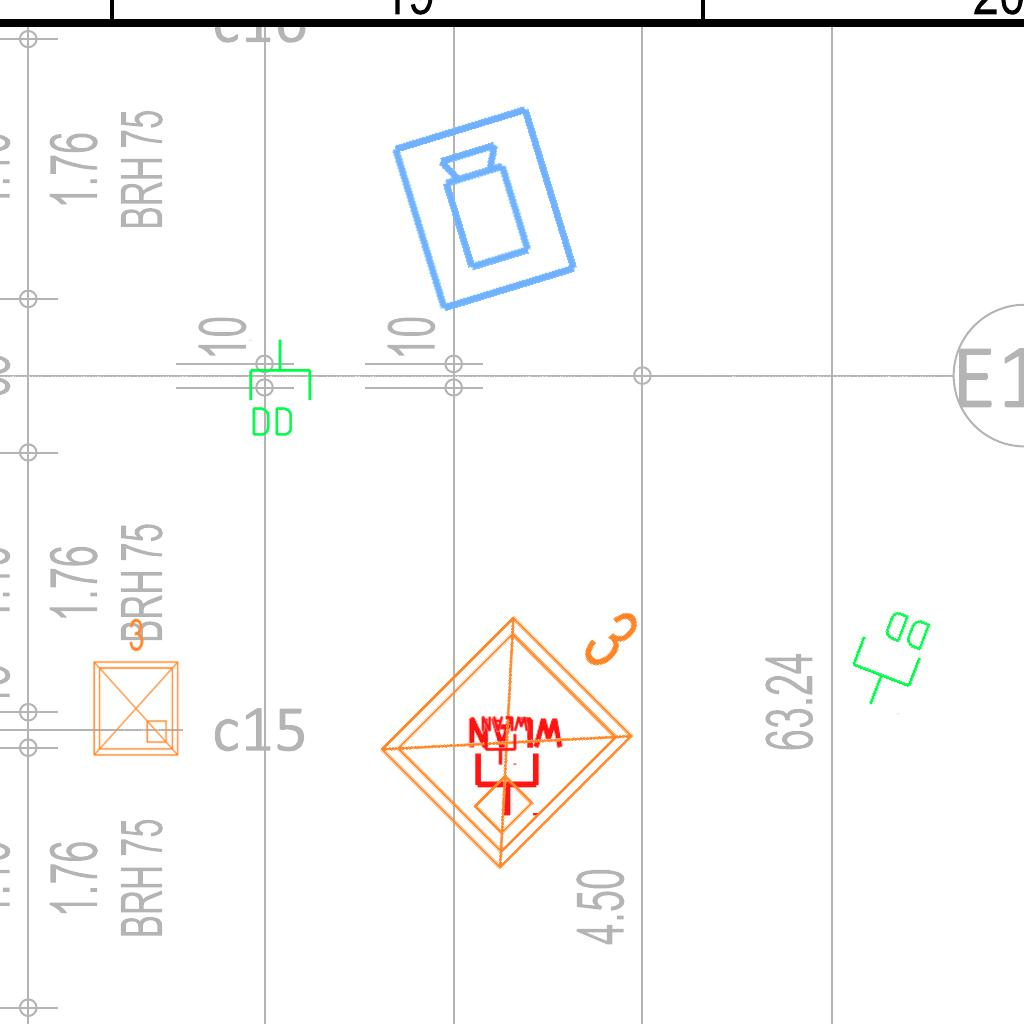Datenanschluss_zweifach: (837, 598, 940, 719), (245, 337, 314, 440)
Einbaudownlights_LED_Konferenzraeume: (353, 531, 713, 891), (82, 613, 186, 763)
KFO_Kamera_mit_Festobjektiv: (385, 99, 587, 319)
WLAN: (464, 715, 568, 820), (479, 715, 531, 767)
